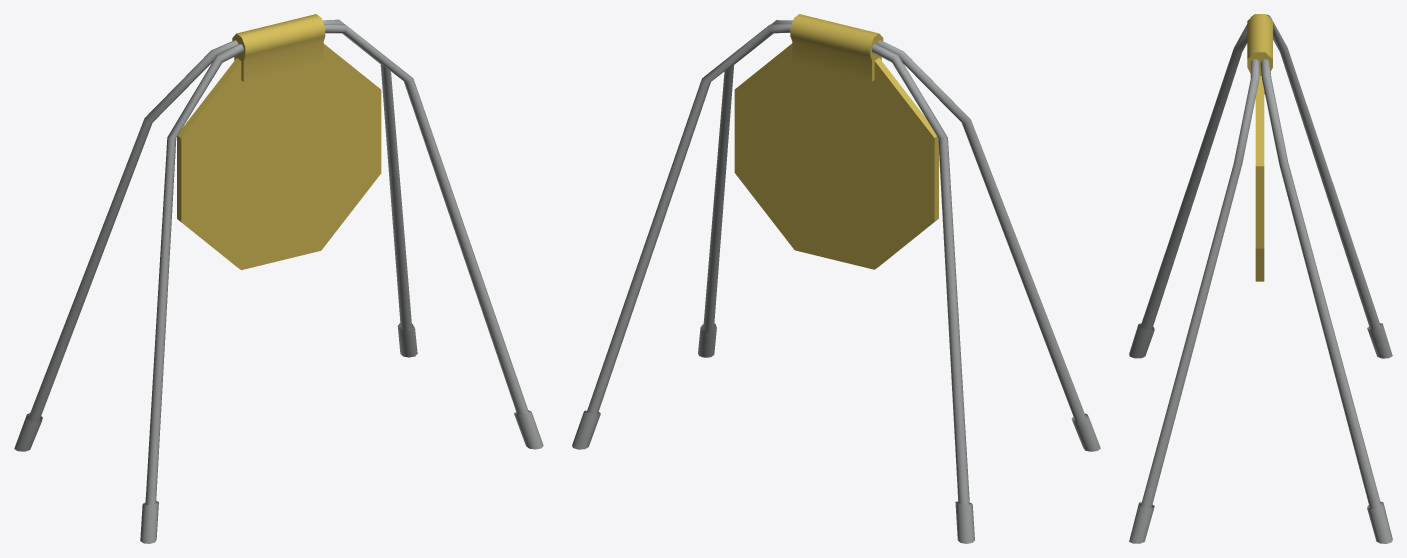
File: caution wet sign.fbx
3 renders of one model, left to right at view 1: azimuth 30°, elevation 25°; view 2: azimuth 150°, elevation 25°; view 3: azimuth 270°, elevation 25°, orthographic.
Visible parts, largest first — view 1: pCylinder2, pCylinder6; view 2: pCylinder2, pCylinder6; view 3: pCylinder6, pCylinder2.
Part boxes in pixels (x1,y1,x2,y2): pCylinder2: (177, 14, 381, 269); pCylinder6: (14, 19, 543, 543); pCylinder2: (734, 14, 938, 269); pCylinder6: (572, 20, 1100, 543); pCylinder6: (1129, 14, 1392, 543); pCylinder2: (1247, 14, 1272, 281).
Size of the model in its own units: 227 by 228 by 131.
